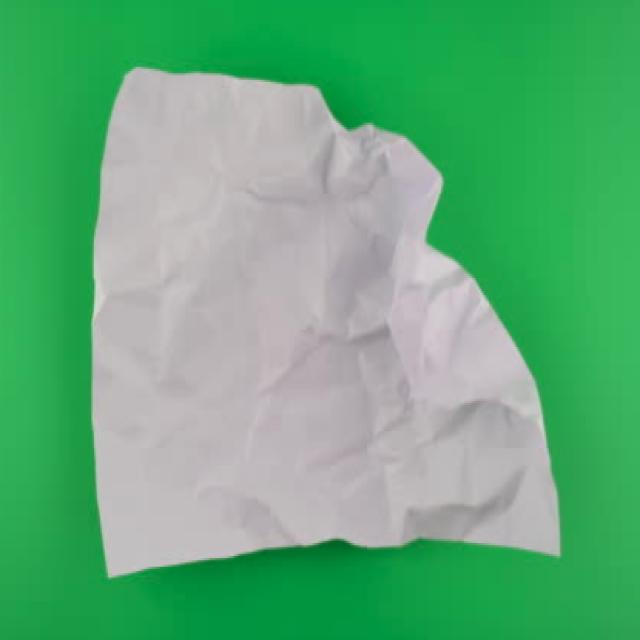KertasBekas: (89, 62, 562, 578)
